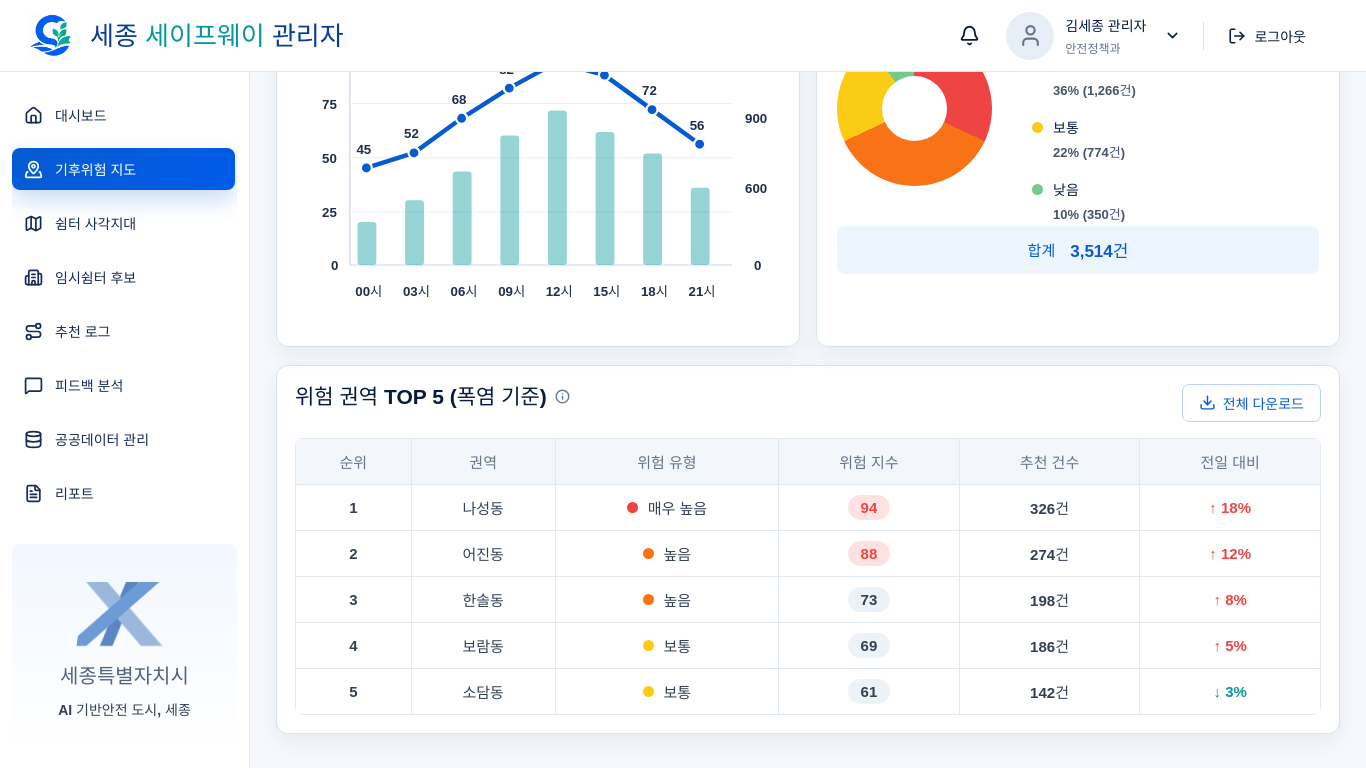
it: AdminClimateRiskMapPage › shows a download preparation message
(page scrolled)
Click the button "전체 다운로드".
click(1251, 403)  # box [1182, 384, 1321, 422]
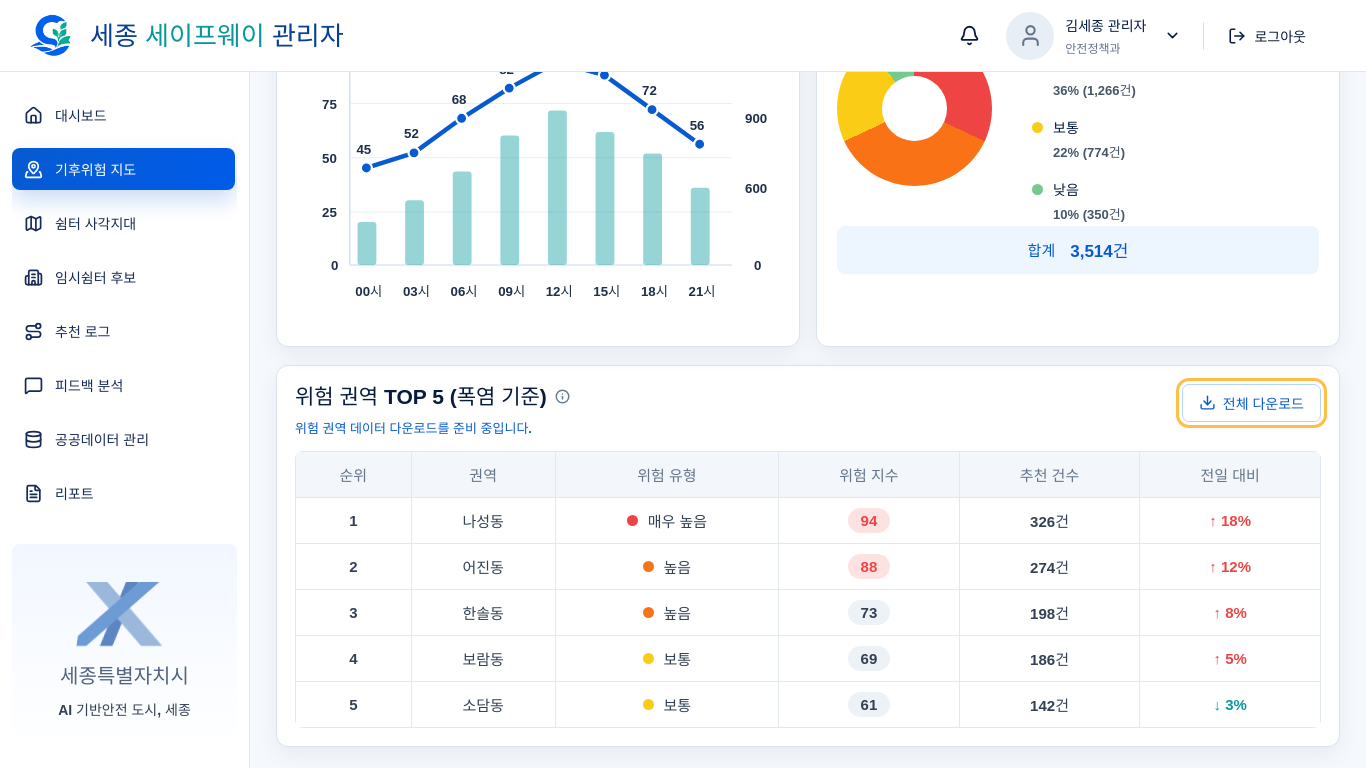
Result: the text "위험 권역 데이터 다운로드를 준비 중입니다." is shown at [295, 418, 572, 437]
